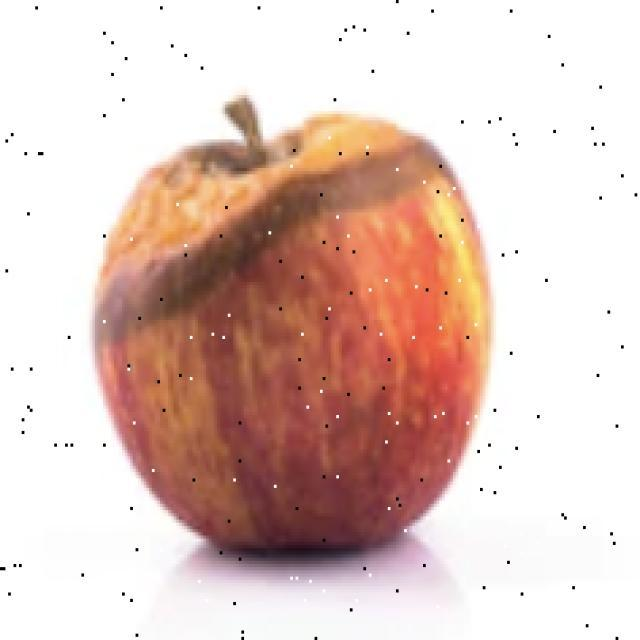Rotten: (100, 126, 480, 552)
